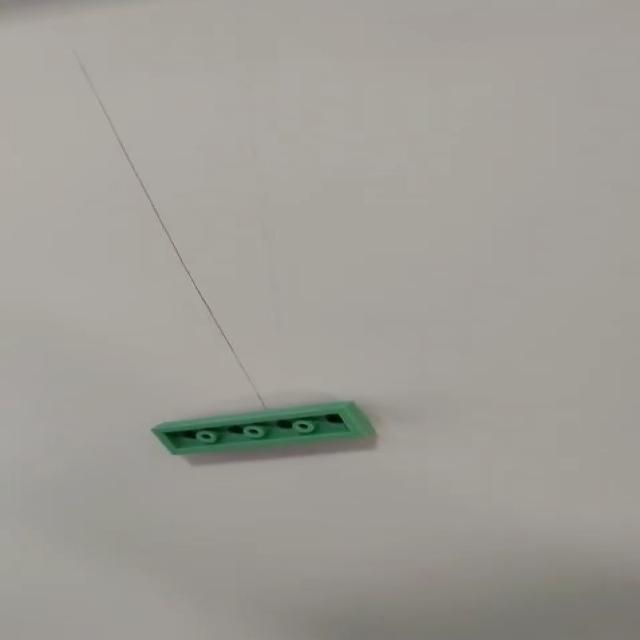C4x1x0: (152, 399, 376, 457)
